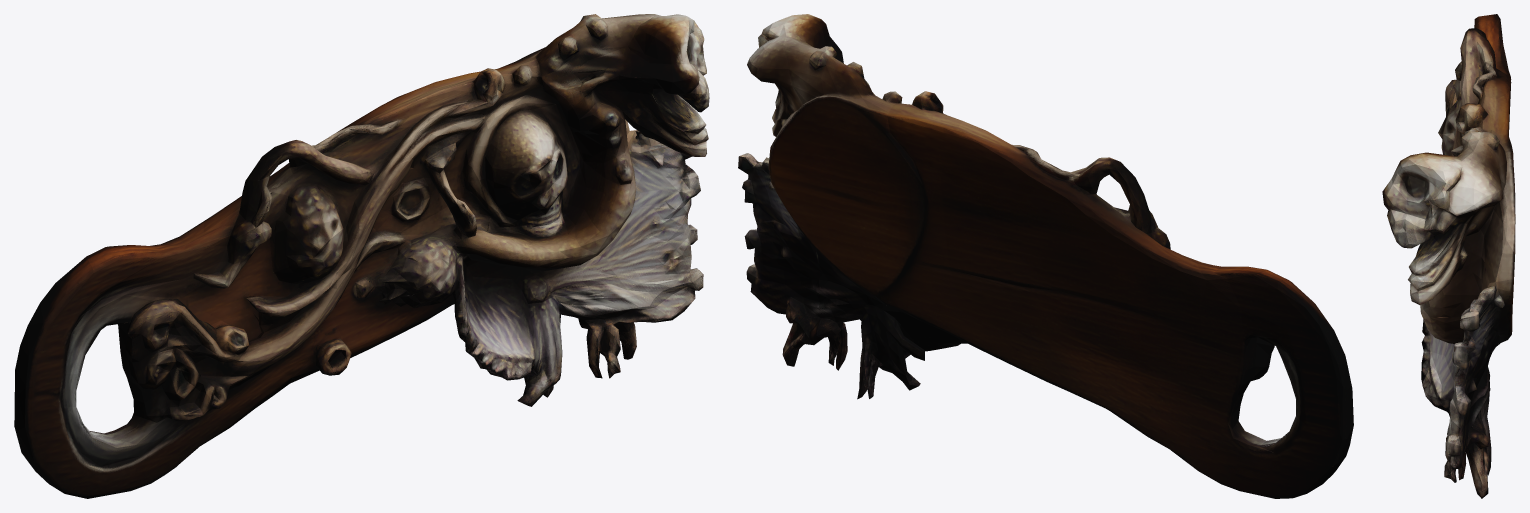
File: wooden-bottle-opener-horror.jpeg.glb
The picture shows the model from 3 angles, left to right: view 1: azimuth 30°, elevation 25°; view 2: azimuth 150°, elevation 25°; view 3: azimuth 270°, elevation 25°; orthographic projection. The views are drawn at different scales.
Parts seen in each view (by area): view 1: world; view 2: world; view 3: world.
Part boxes in pixels (bbox=[...]): world: bbox=[14, 14, 709, 498]; world: bbox=[738, 14, 1353, 498]; world: bbox=[1382, 14, 1515, 498].
Bounding box in the file's own units: 0.9995 × 0.5283 × 0.1748.
1 material, 1 textured.
